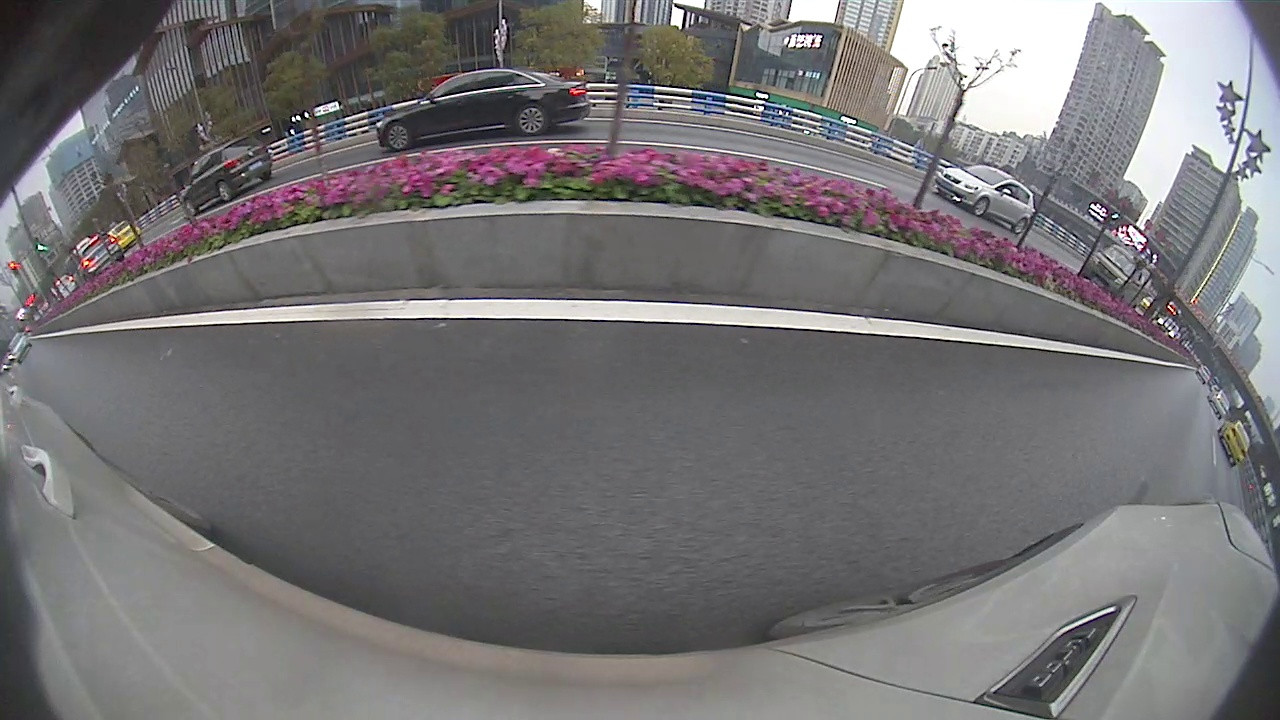car: (374, 67, 593, 156), (1216, 418, 1251, 467)
front: (384, 122, 413, 152), (972, 196, 992, 217)
rear: (514, 100, 549, 138), (216, 180, 236, 204), (1012, 215, 1028, 236)
